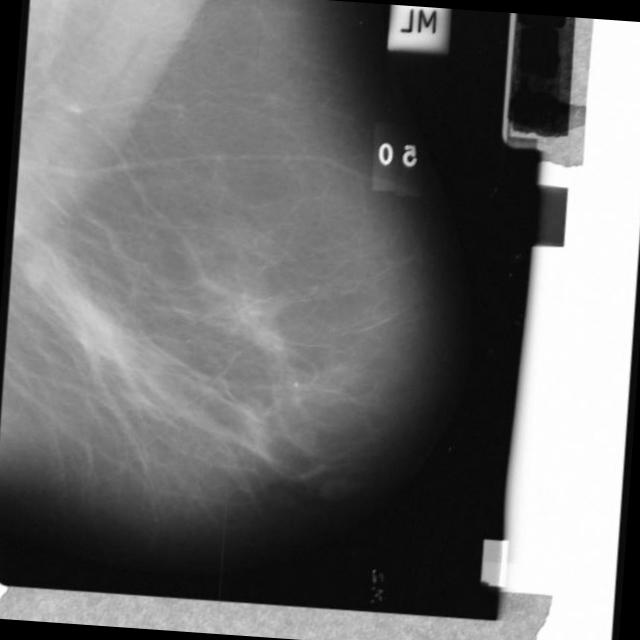MISC: (0, 226, 161, 389)
